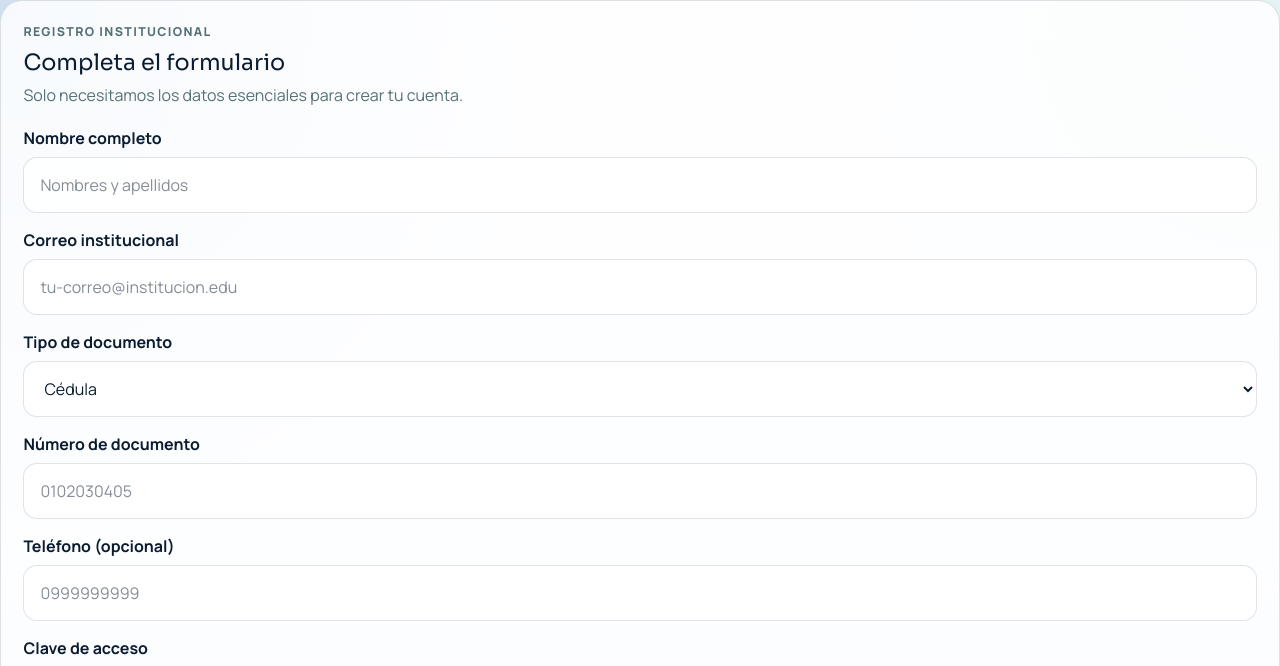
Scenario: RegisterForm › rejects public email providers on blur
Type "andriudex@gmail.com" into the field labelled "Correo institucional".
click(640, 287); type("andriudex@gmail.com")  # box [23,259,1257,315]
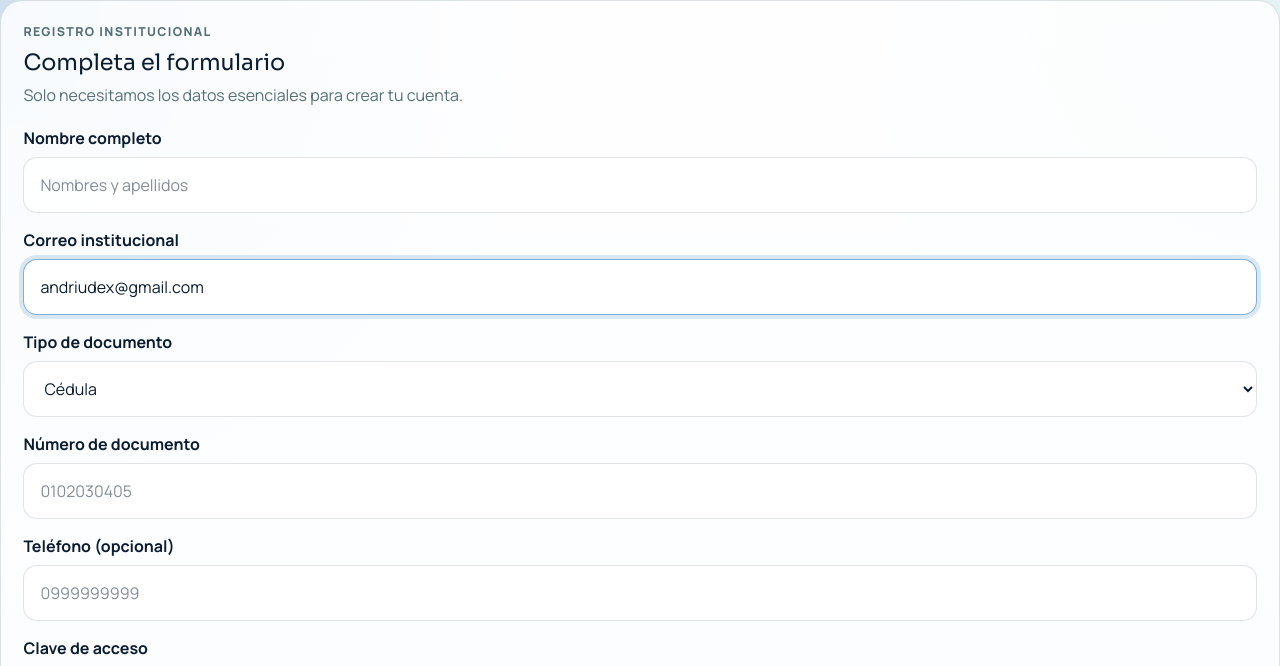
Press Tab
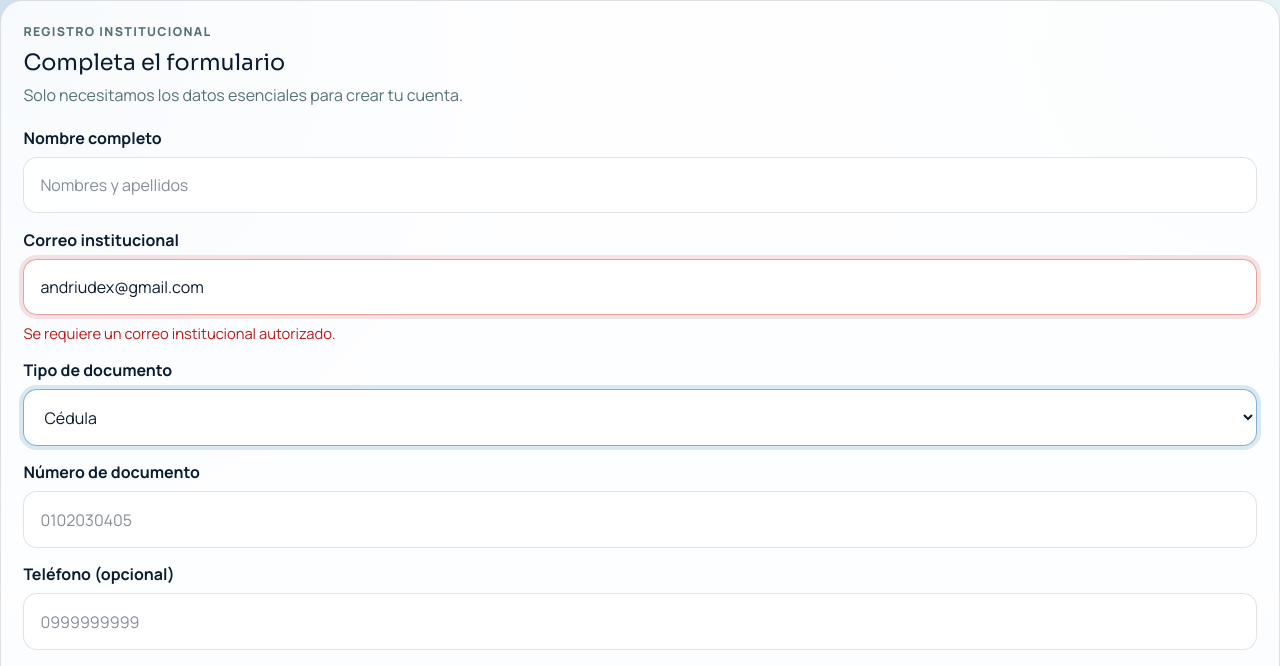
Result: the text "Se requiere un correo institucional autorizado." is shown at [23,323,335,343]
